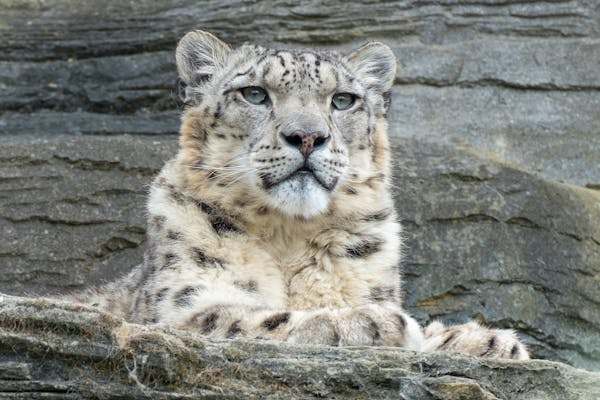Leopard: (108, 30, 530, 367)
